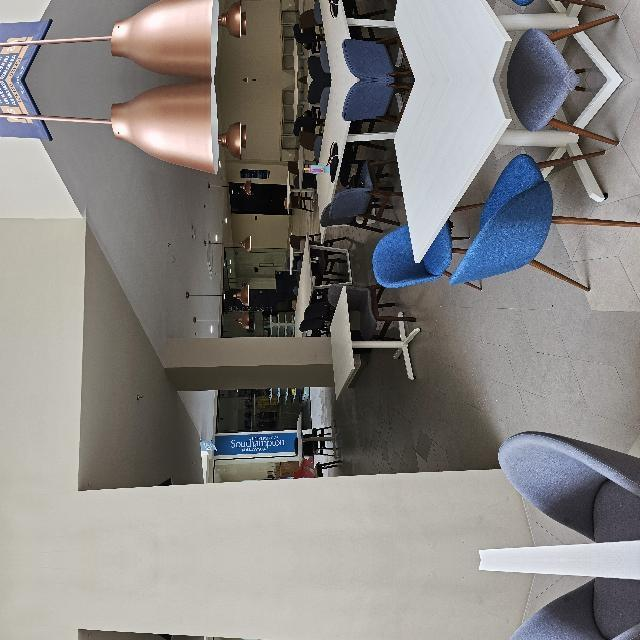obstacle: (256, 418, 479, 640), (256, 446, 479, 640), (376, 80, 479, 302), (20, 400, 146, 544), (160, 402, 272, 492), (19, 575, 146, 640), (376, 0, 479, 80), (160, 628, 271, 640)
